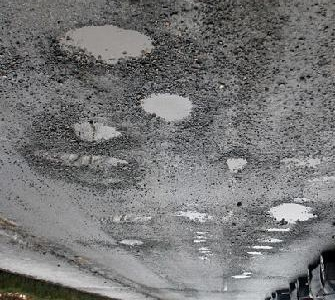pothole: (49, 23, 158, 72), (27, 150, 139, 188), (134, 89, 196, 128), (60, 118, 126, 149), (266, 201, 320, 226), (221, 156, 248, 174), (115, 238, 144, 248), (229, 270, 252, 281), (249, 245, 274, 253), (257, 239, 282, 245)
